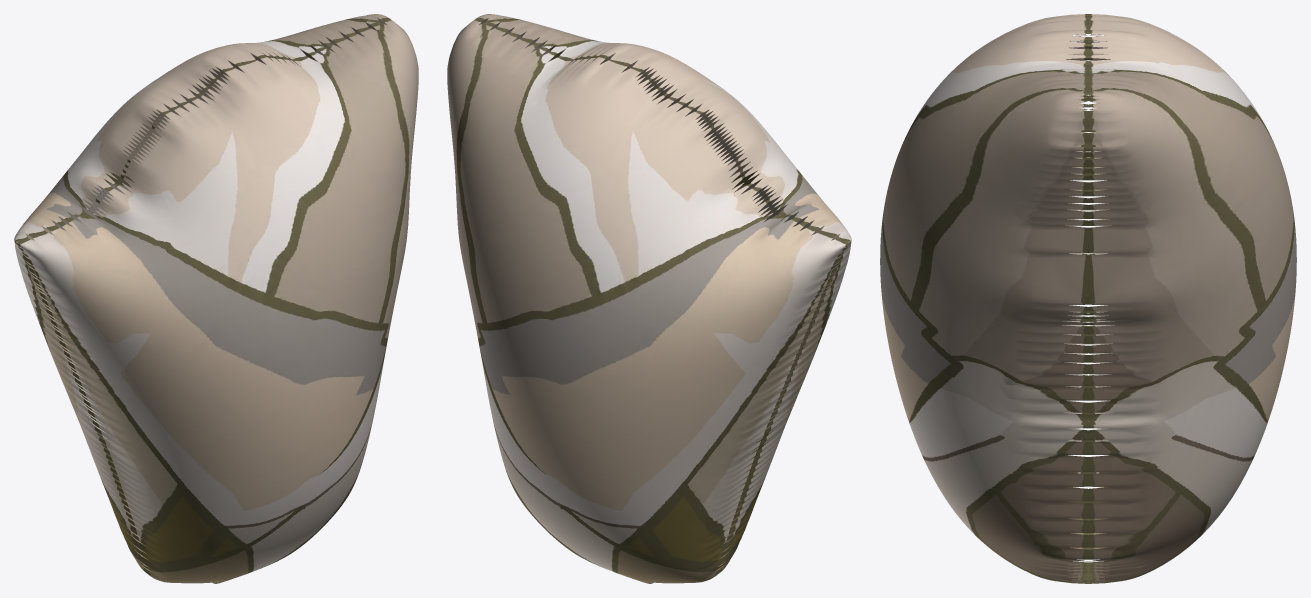
Rendered from pale_cliff.glb.
The picture shows the model from 3 angles, left to right: view 1: azimuth 30°, elevation 25°; view 2: azimuth 150°, elevation 25°; view 3: azimuth 270°, elevation 25°; orthographic projection. The views are drawn at different scales.
Visible parts, largest first — view 1: pale_cliff; view 2: pale_cliff; view 3: pale_cliff.
Part boxes in pixels (<box>): pale_cliff: <box>14,14,418,583</box>; pale_cliff: <box>447,14,851,583</box>; pale_cliff: <box>880,14,1296,583</box>.
Size of the model in its own units: 0.9854 by 1.22 by 0.8011.
Materials: 1 (1 with a texture image).
